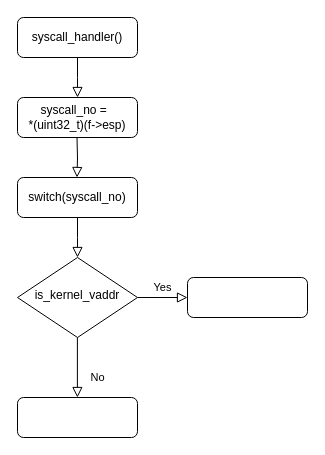
This 325x455 diagram has some shape labels left out. The box of each missing label's shape, as (x1, y1, x2, y2) in pixels:
exit(-1): (186, 276, 308, 318)
Termination: (16, 396, 138, 438)
